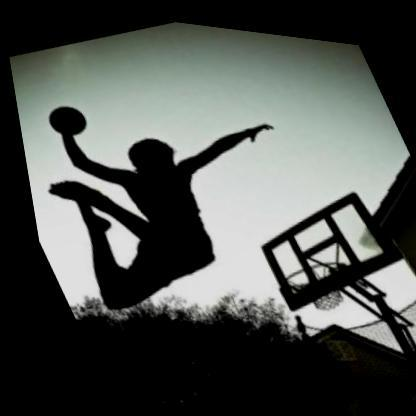basketball: (37, 96, 92, 143)
